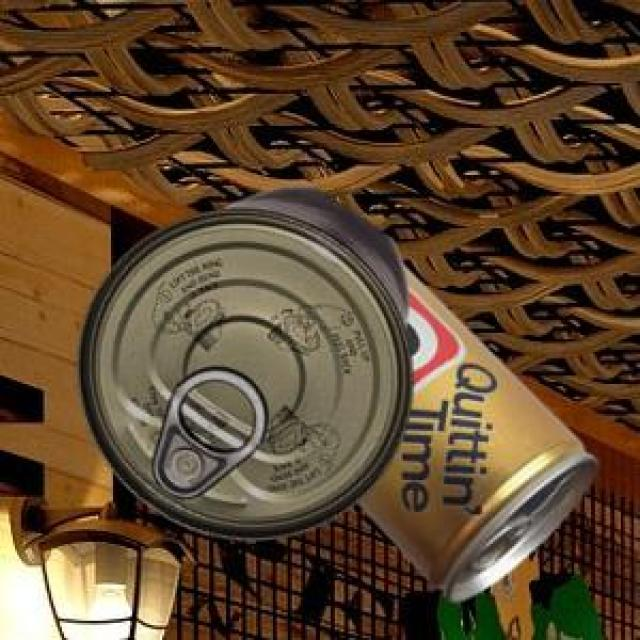logam: (74, 185, 409, 537), (355, 263, 594, 598)
